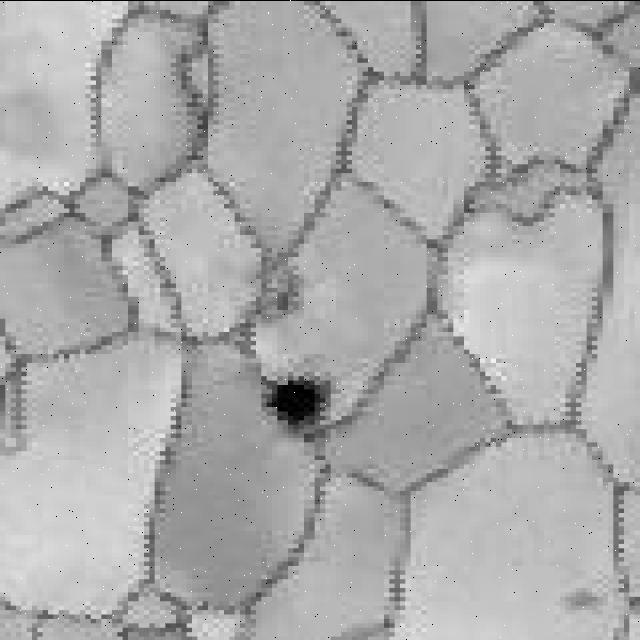good_void: (263, 367, 338, 435)
